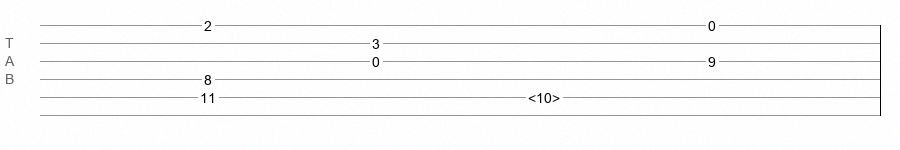0: (372, 54, 380, 64), (708, 18, 716, 28)
11: (200, 90, 216, 100)
2: (204, 18, 212, 28)
3: (372, 36, 380, 46)
8: (204, 72, 212, 82)
9: (708, 54, 716, 64)
harmonic: (528, 90, 560, 100)
